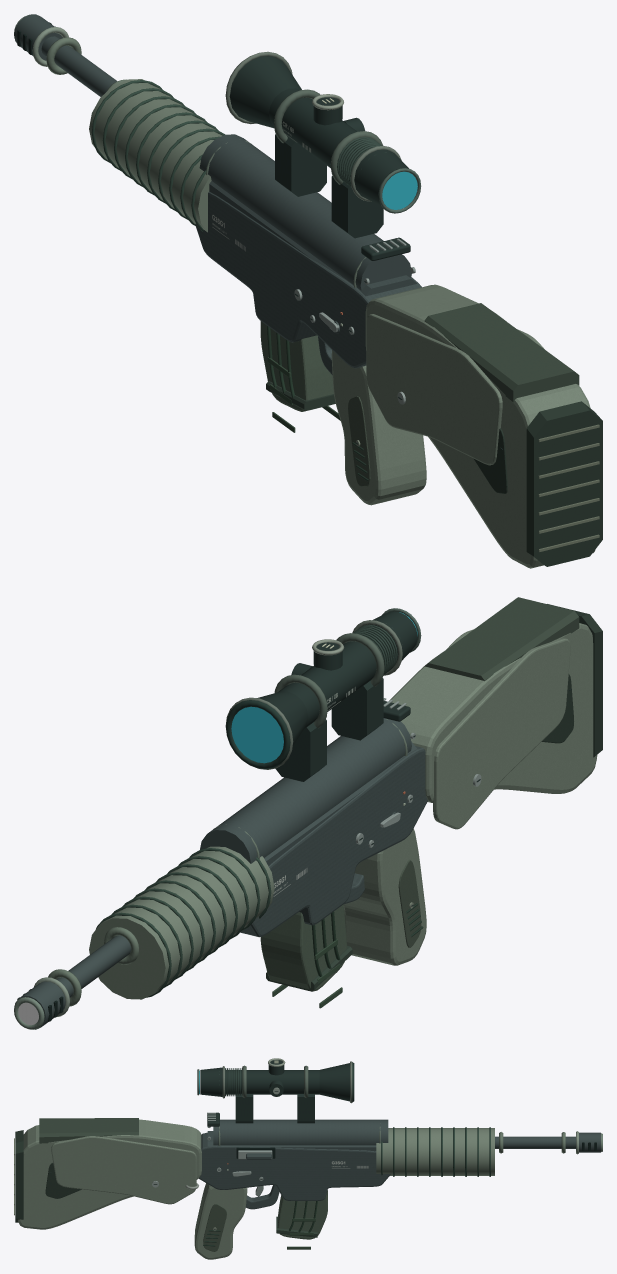
The picture shows the model from 3 angles, top to bottom: view 1: azimuth 30°, elevation 25°; view 2: azimuth 150°, elevation 25°; view 3: azimuth 270°, elevation 25°; orthographic projection. The views are drawn at different scales.
Parts seen in each view (by area): view 1: g3sg1, magazine; view 2: g3sg1, magazine; view 3: g3sg1, magazine, bolt.
Boxes of the visible parts, left/top/right/bottom form: g3sg1: left=14, top=14, right=602, bottom=568; magazine: left=260, top=321, right=340, bottom=432; g3sg1: left=14, top=597, right=602, bottom=1029; magazine: left=260, top=904, right=352, bottom=1008; g3sg1: left=14, top=1058, right=602, bottom=1259; magazine: left=276, top=1190, right=327, bottom=1249; bolt: left=238, top=1150, right=272, bottom=1159.
Bounding box in the file's own units: 0.156 × 0.6167 × 1.71.
Materials: 39 (19 with a texture image).
